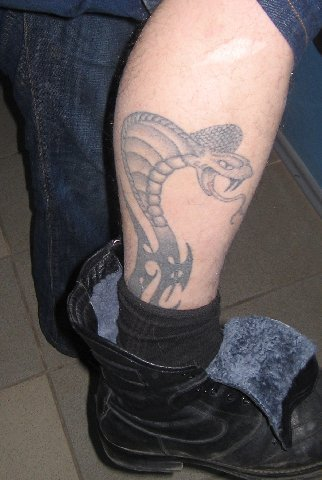tatu7_zmeya: (115, 108, 260, 319)
